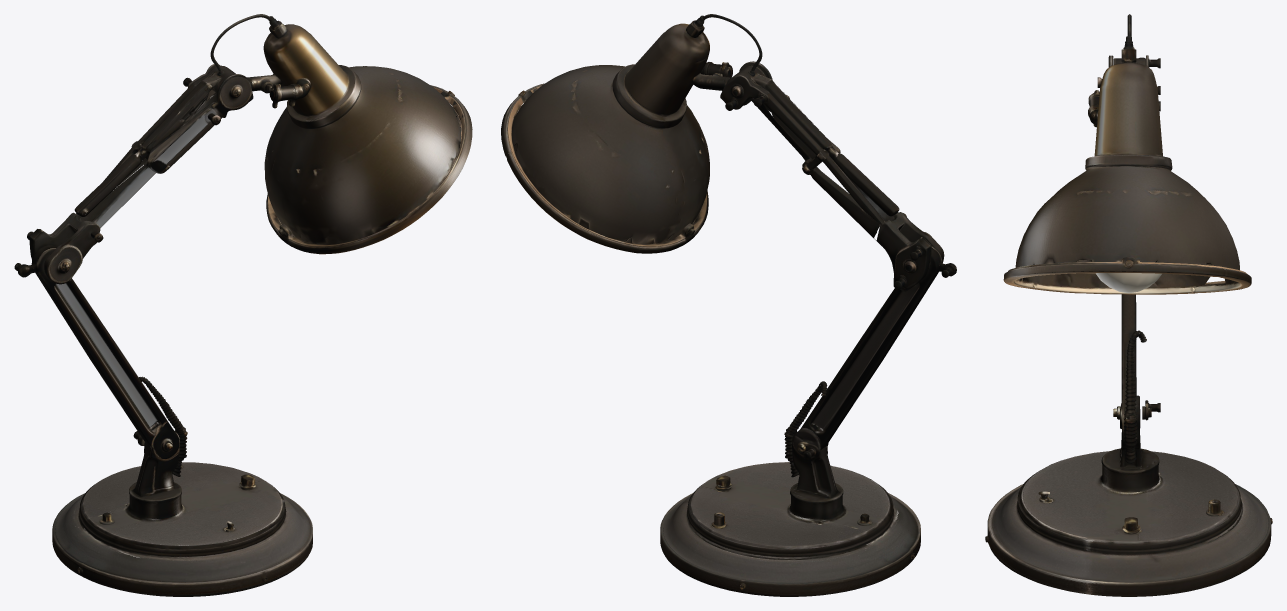
The model's file is desk-lamp.glb.
The picture shows the model from 3 angles, left to right: view 1: azimuth 30°, elevation 25°; view 2: azimuth 150°, elevation 25°; view 3: azimuth 270°, elevation 25°; orthographic projection. The views are drawn at different scales.
Parts seen in each view (by area): view 1: e79d3a40_5f6b_4034_9782_8d0e13de2782; view 2: e79d3a40_5f6b_4034_9782_8d0e13de2782; view 3: e79d3a40_5f6b_4034_9782_8d0e13de2782.
Part boxes in pixels (x1=…): e79d3a40_5f6b_4034_9782_8d0e13de2782: x1=14, y1=14, x2=472, y2=596; e79d3a40_5f6b_4034_9782_8d0e13de2782: x1=501, y1=14, x2=956, y2=596; e79d3a40_5f6b_4034_9782_8d0e13de2782: x1=985, y1=14, x2=1272, y2=596.
Size of the model in its own units: 0.897 by 0.9995 by 0.4702.
1 material, 1 textured.
